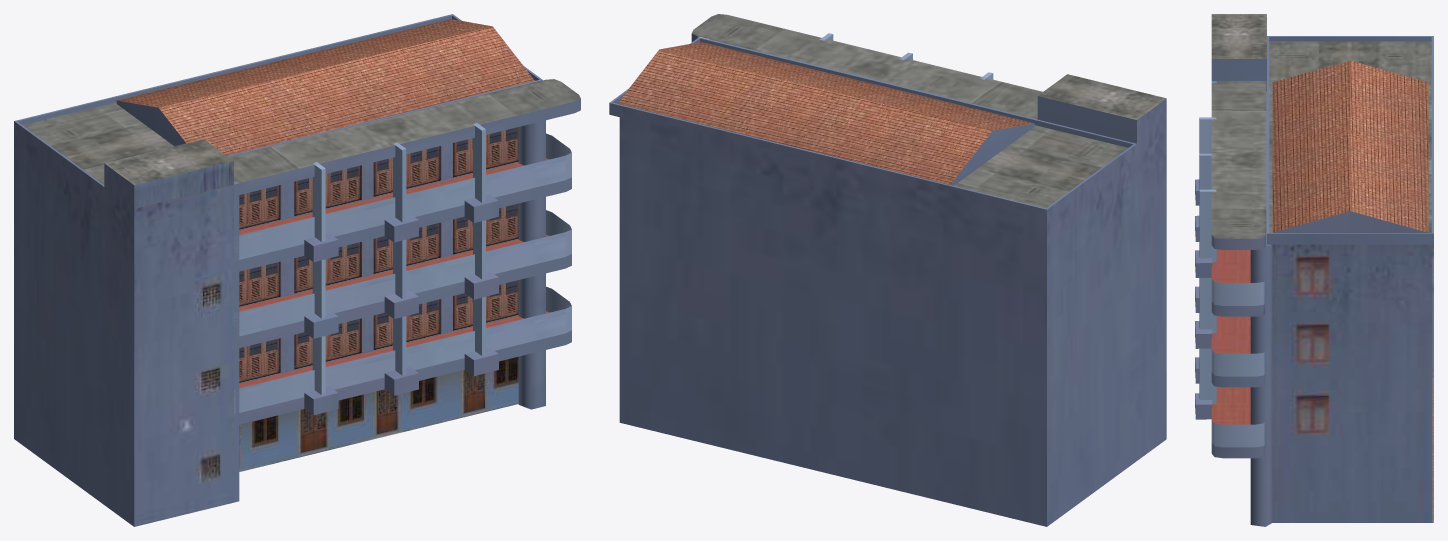
The picture shows the model from 3 angles, left to right: view 1: azimuth 30°, elevation 25°; view 2: azimuth 150°, elevation 25°; view 3: azimuth 270°, elevation 25°; orthographic projection. The views are drawn at different scales.
Visible parts, largest first — view 1: HN789_TruongTHPTAnhxTanh; view 2: HN789_TruongTHPTAnhxTanh; view 3: HN789_TruongTHPTAnhxTanh.
Part boxes in pixels (x1=…): HN789_TruongTHPTAnhxTanh: x1=14, y1=14, x2=580, y2=526; HN789_TruongTHPTAnhxTanh: x1=609, y1=14, x2=1166, y2=526; HN789_TruongTHPTAnhxTanh: x1=1195, y1=14, x2=1433, y2=526.
Size of the model in its own units: 21.56 by 15.62 by 10.7.
1 material, 1 textured.
